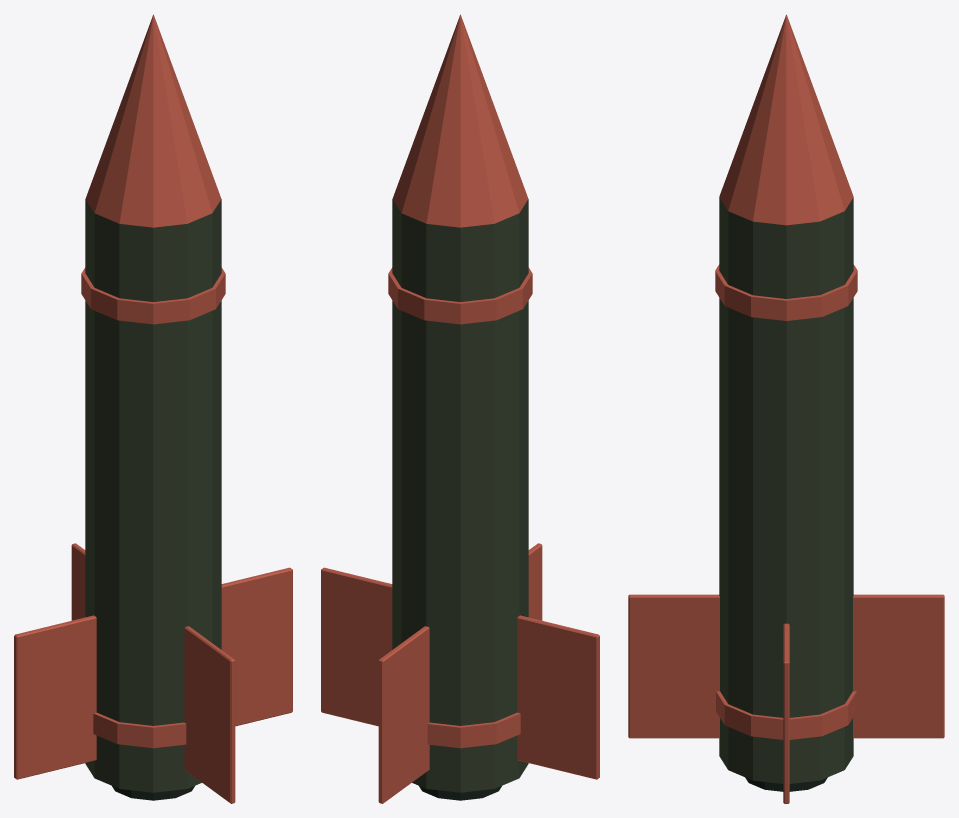
File: projectile_enemy_rocket.obj
3 views of the same model, side by side, from view 1: azimuth 30°, elevation 25°; view 2: azimuth 150°, elevation 25°; view 3: azimuth 270°, elevation 25° (orthographic).
Parts seen in each view (by area): view 1: projectile_enemy_rocket; view 2: projectile_enemy_rocket; view 3: projectile_enemy_rocket.
Part boxes in pixels (<box>): projectile_enemy_rocket: <box>14,14,292,803</box>; projectile_enemy_rocket: <box>321,14,599,803</box>; projectile_enemy_rocket: <box>628,14,944,803</box>.
Bounding box in the file's own units: 0.564 × 1.5 × 0.564.
Materials: 1 (1 with a texture image).
